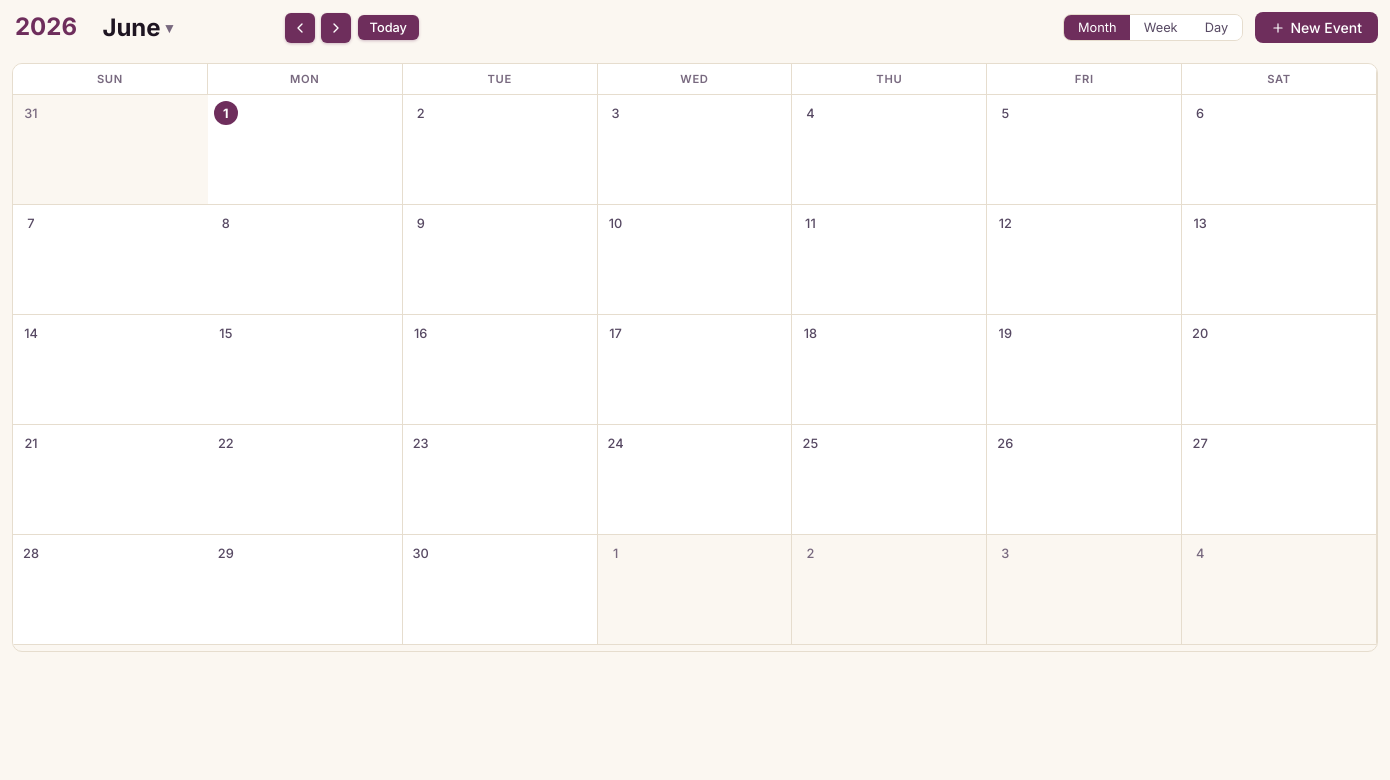
Test: selecting a month from dropdown changes current month
Click the button with class "cal-month-btn". click: (182, 28)
box: [102,13,262,42]
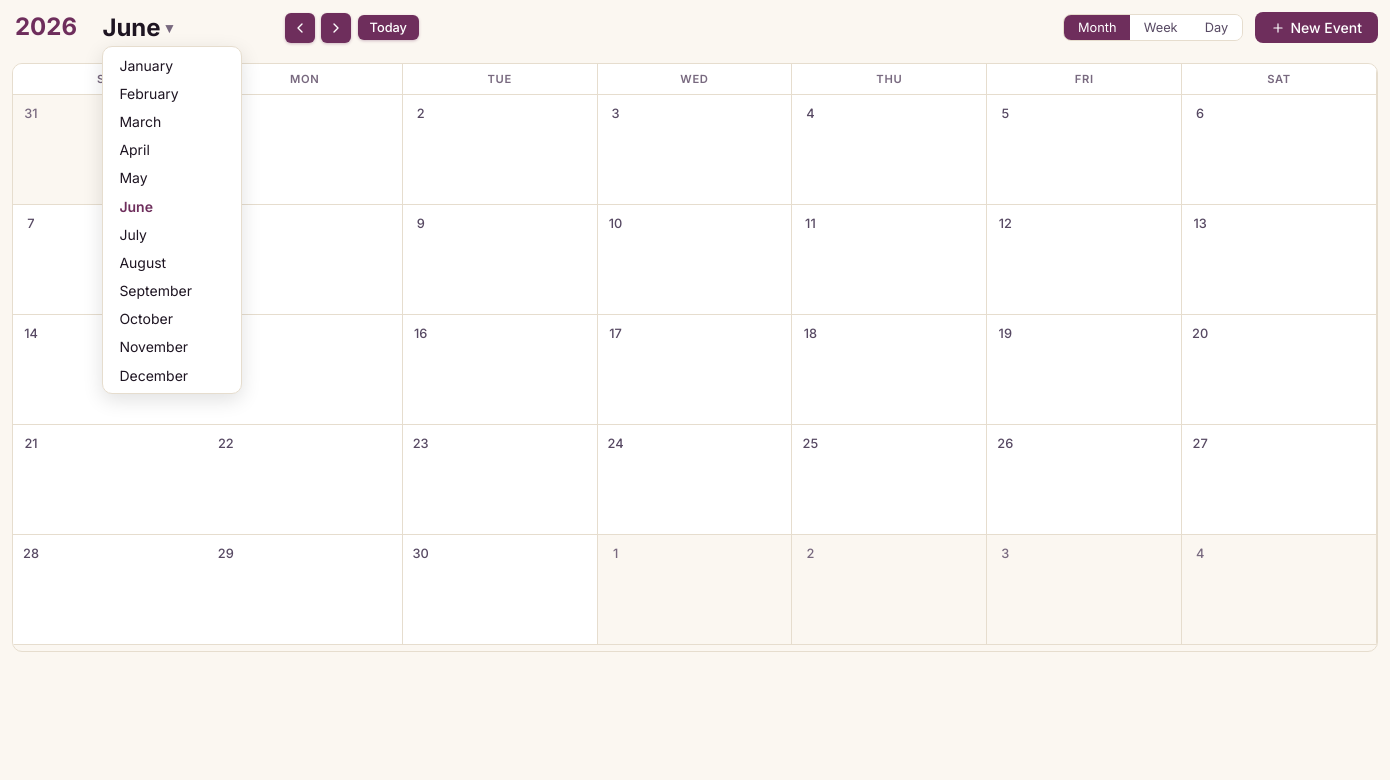
Click the button "March". click: (172, 122)
box: [107,107,237,136]
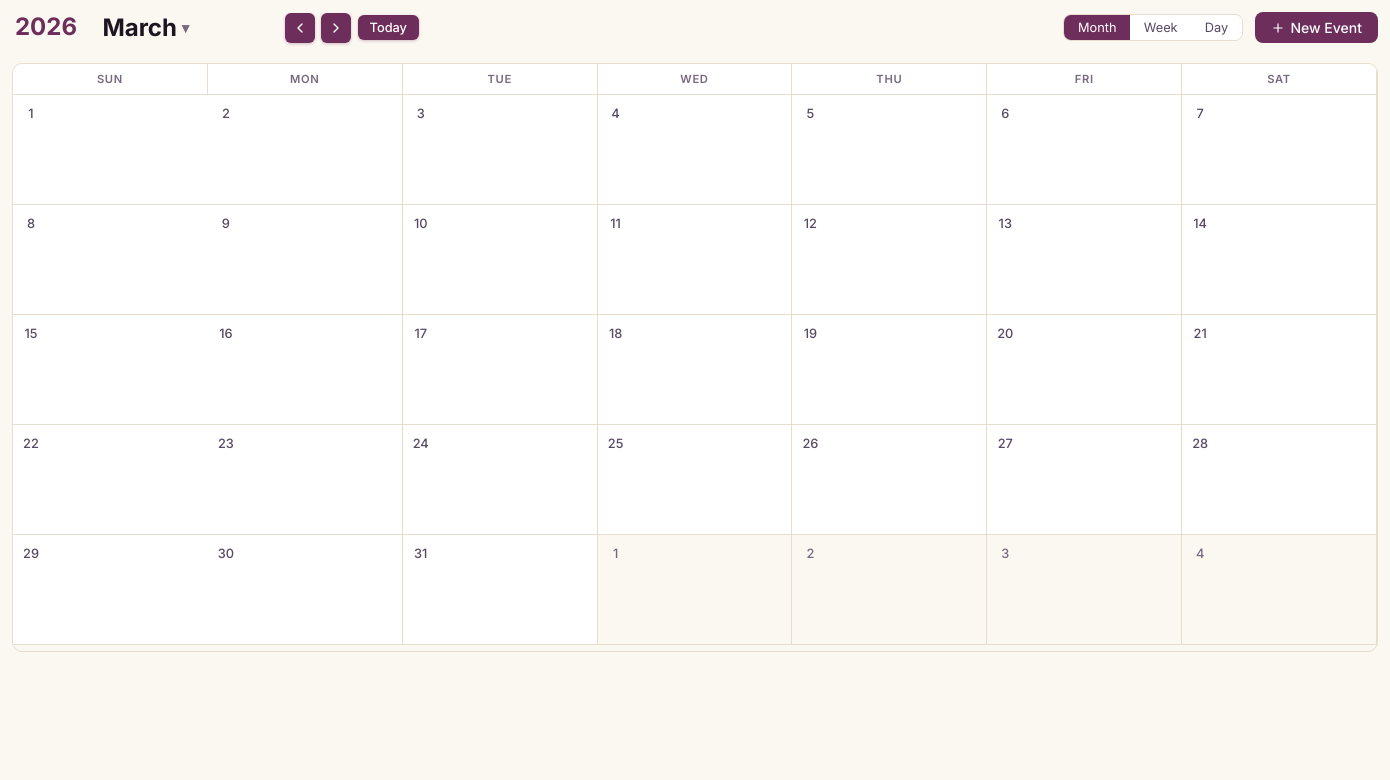
Expected: the button with class "cal-month-btn" shows "March", [102,13,262,42]
